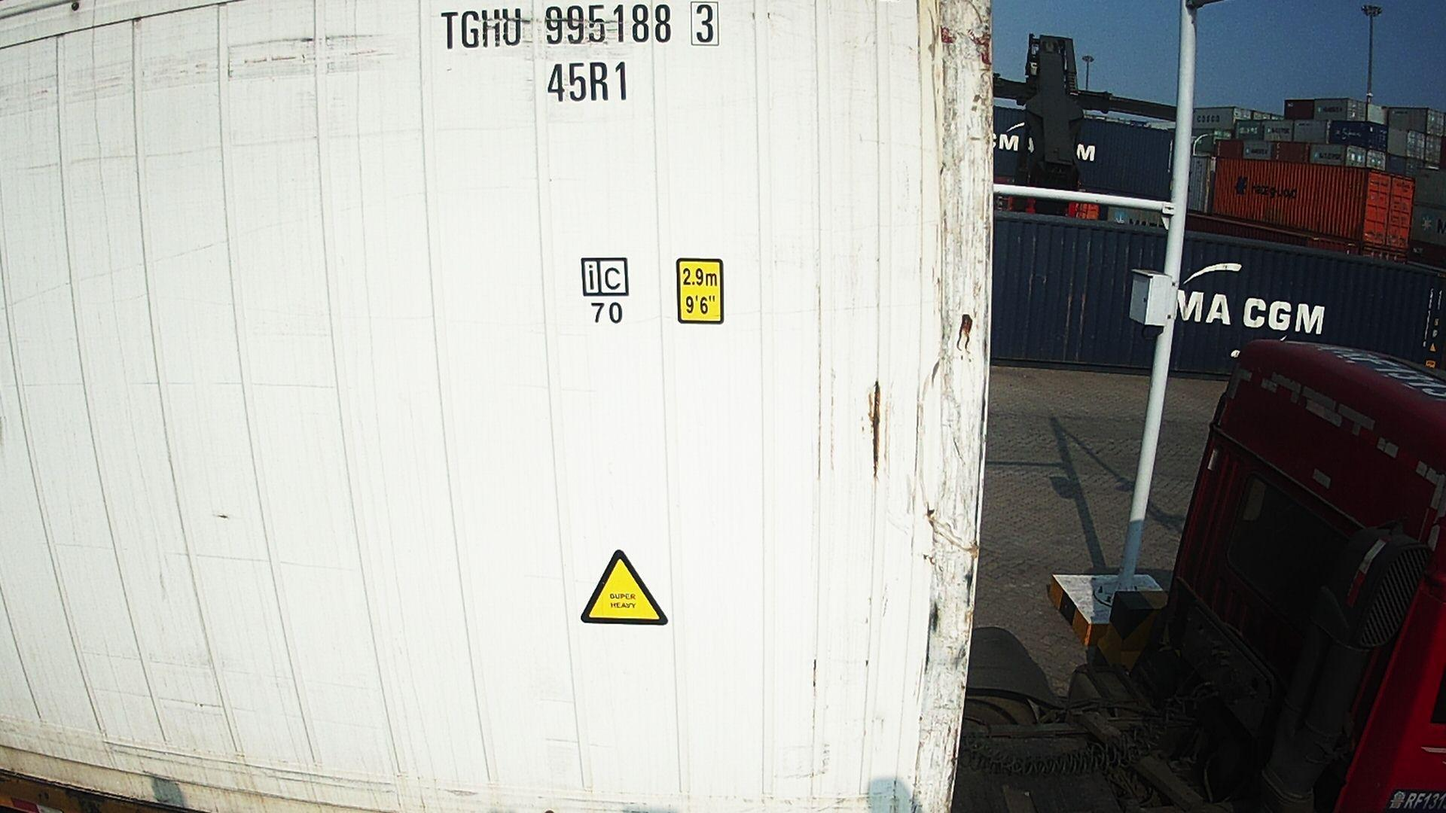container-numbers: (439, 0, 725, 54), (544, 59, 633, 108)
